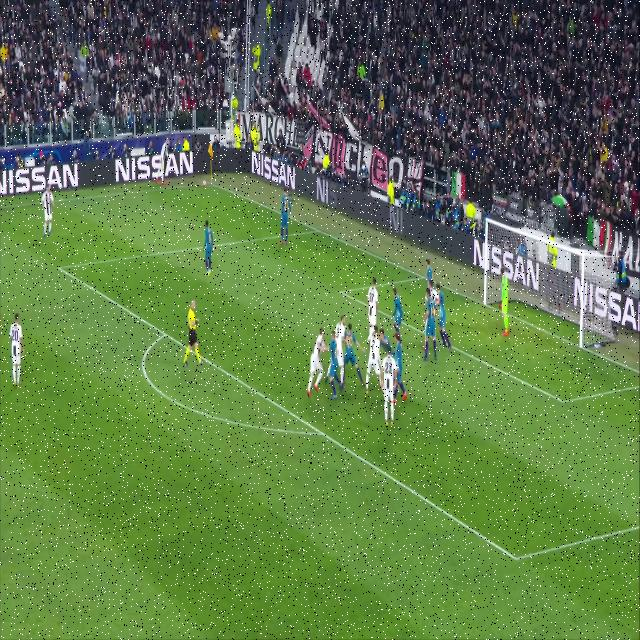Ball: (202, 176, 207, 190)
GoalKeeper: (497, 262, 512, 340)
TEAM 1: (308, 328, 334, 402), (367, 320, 382, 402), (381, 350, 395, 427), (9, 313, 23, 389), (334, 312, 345, 401), (154, 136, 172, 190), (364, 272, 378, 332), (43, 183, 56, 240)
TEAM 2: (344, 322, 362, 392), (395, 332, 411, 401), (436, 282, 450, 352), (390, 287, 404, 340), (202, 220, 215, 277), (280, 191, 292, 247), (427, 293, 436, 364), (331, 329, 338, 396), (422, 255, 433, 286), (379, 328, 391, 354)
